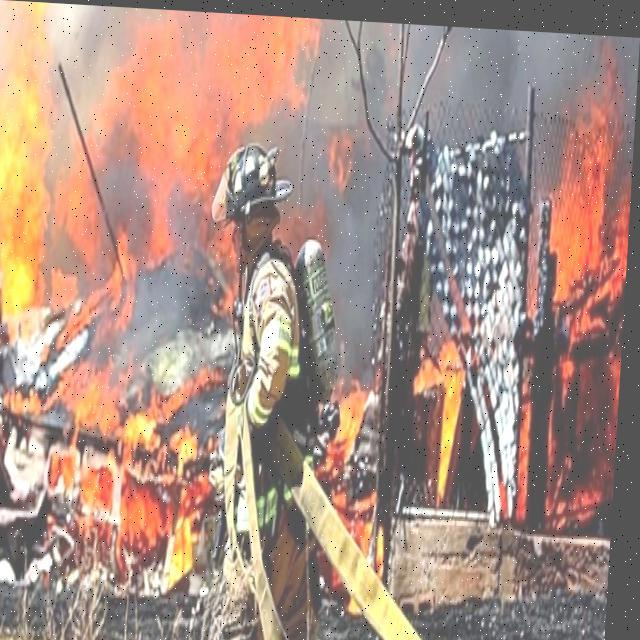Fire: (0, 1, 311, 578), (524, 26, 634, 526)
